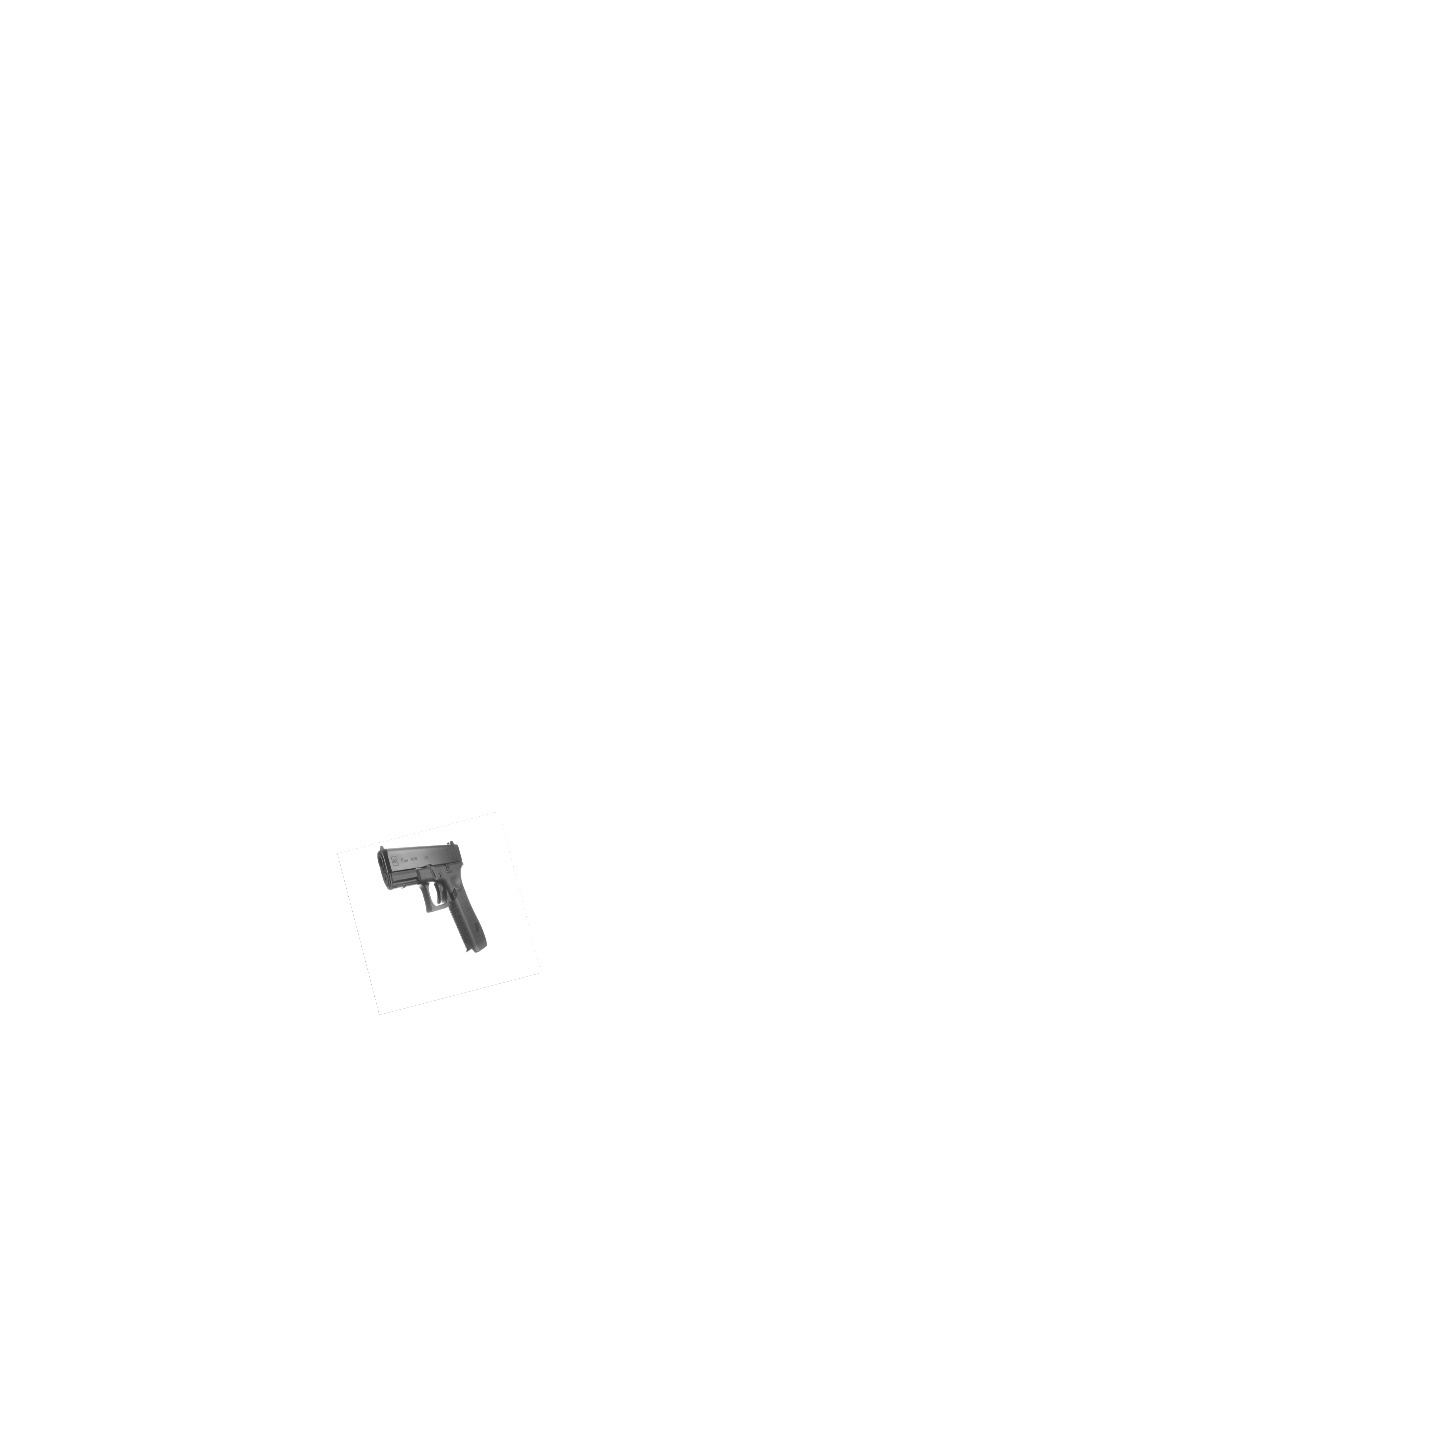gun: (375, 840, 486, 957)
